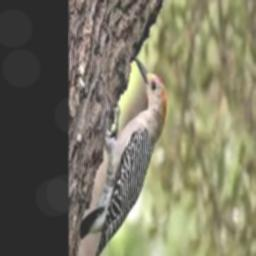Woodpecker: (79, 56, 167, 256)
